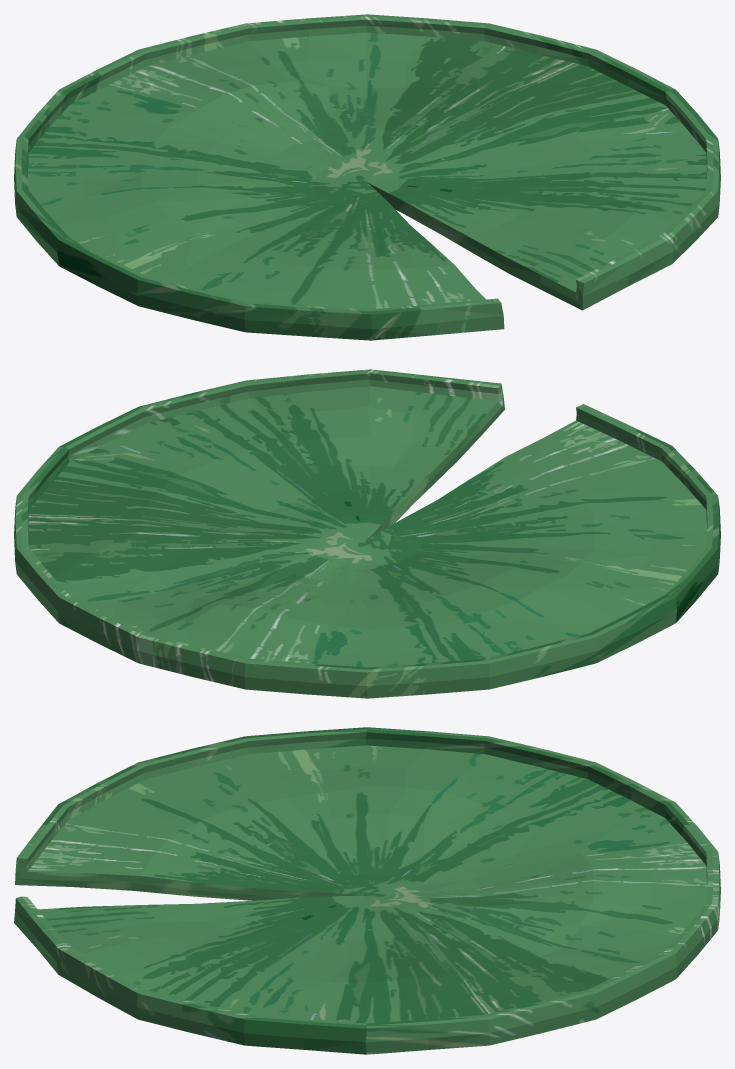
The model's file is SM_Lilypad_Fixed.FBX.
The picture shows the model from 3 angles, top to bottom: view 1: azimuth 30°, elevation 25°; view 2: azimuth 150°, elevation 25°; view 3: azimuth 270°, elevation 25°; orthographic projection.
Parts seen in each view (by area): view 1: SM_Lily_Center, SM_Lily_Outer; view 2: SM_Lily_Center, SM_Lily_Outer; view 3: SM_Lily_Center, SM_Lily_Outer.
Boxes of the visible parts, bbox=[...] form: SM_Lily_Center: bbox=[28, 32, 706, 309]; SM_Lily_Outer: bbox=[14, 14, 720, 340]; SM_Lily_Center: bbox=[28, 386, 706, 667]; SM_Lily_Outer: bbox=[14, 369, 720, 698]; SM_Lily_Center: bbox=[15, 745, 706, 1023]; SM_Lily_Outer: bbox=[14, 727, 720, 1054].
Size of the model in its own units: 29.22 by 1.77 by 28.85.
